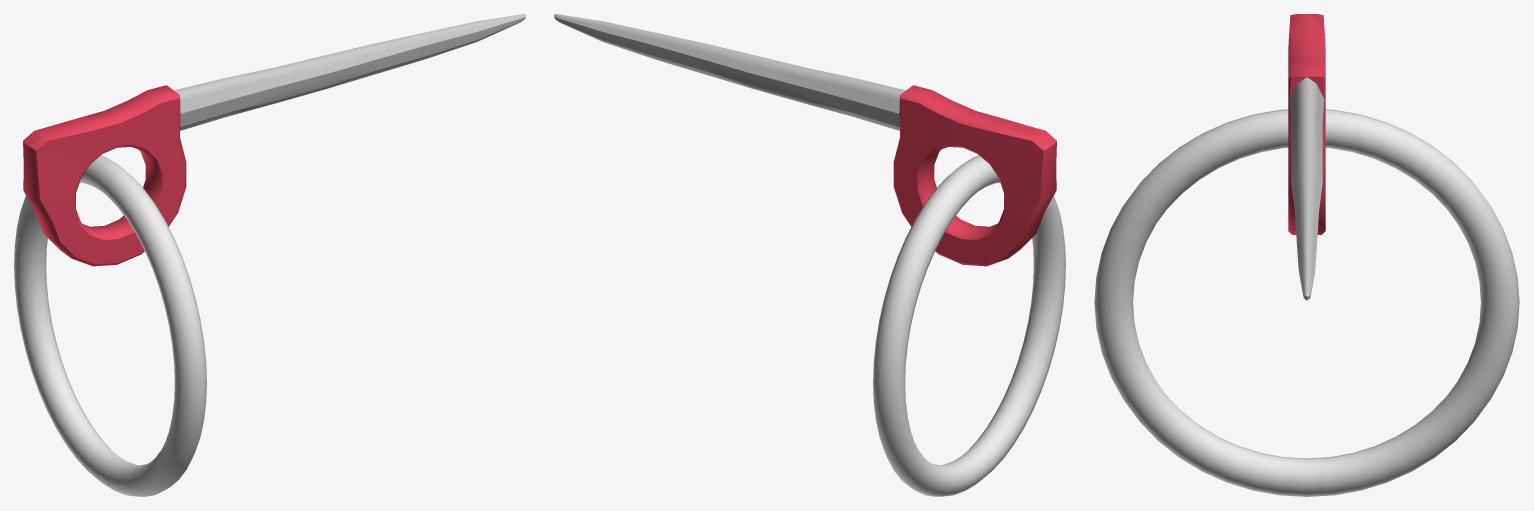
Rendered from piton.fbx.
3 views of the same model, side by side, from view 1: azimuth 30°, elevation 25°; view 2: azimuth 150°, elevation 25°; view 3: azimuth 270°, elevation 25° (orthographic). The views are drawn at different scales.
Visible parts, largest first — view 1: Cylinder, Torus; view 2: Cylinder, Torus; view 3: Torus, Cylinder.
Boxes of the visible parts, bbox=[...] form: Cylinder: bbox=[23, 14, 525, 266]; Torus: bbox=[14, 155, 206, 496]; Cylinder: bbox=[554, 14, 1056, 266]; Torus: bbox=[873, 155, 1065, 496]; Torus: bbox=[1094, 109, 1519, 496]; Cylinder: bbox=[1288, 14, 1325, 300].
Bounding box in the file's own units: 357 × 260 × 220.
